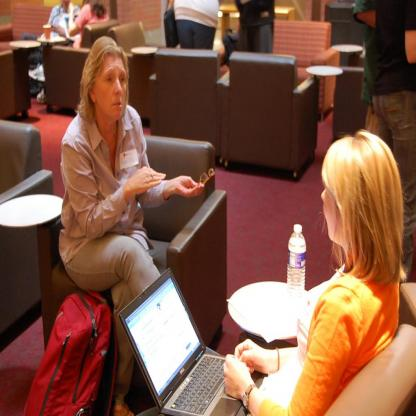board: (117, 268, 261, 416), (286, 223, 306, 304)
